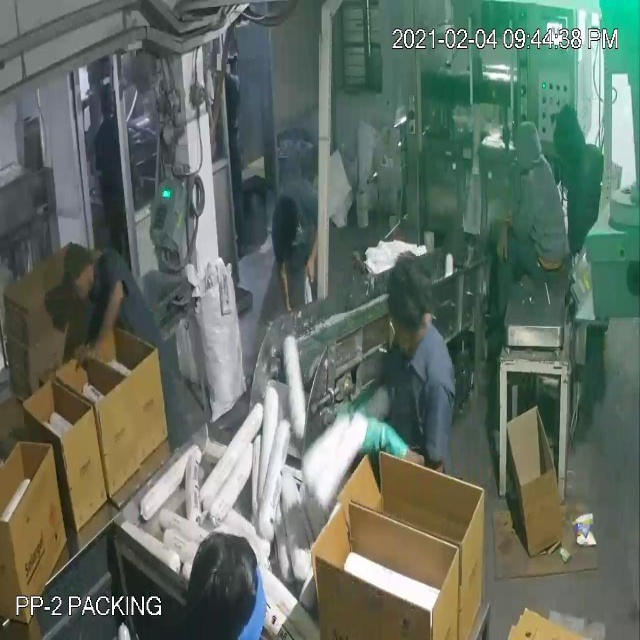Guantes: (350, 391, 407, 473)
Sin_guantes: (89, 276, 133, 354), (303, 212, 326, 288), (279, 257, 296, 320)
